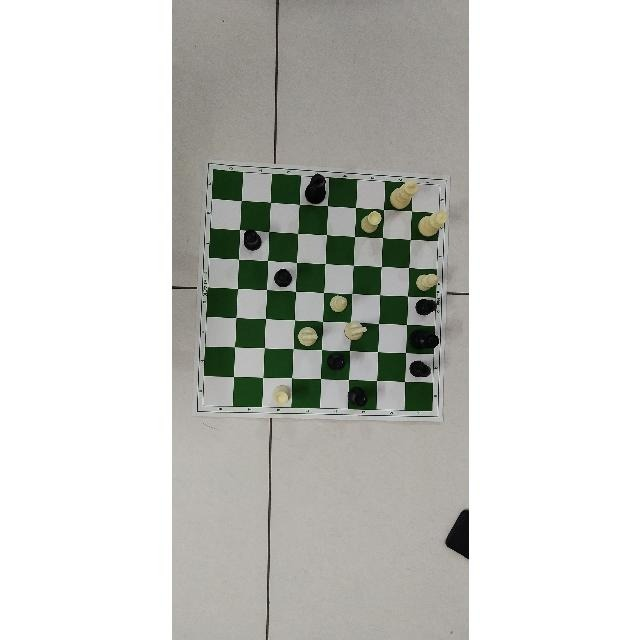black-bishop: (408, 360, 431, 378), (414, 299, 437, 316)
black-king: (304, 174, 326, 206)
black-queen: (406, 328, 437, 351)
black-rook: (346, 385, 368, 406), (242, 228, 262, 251), (272, 268, 291, 288), (327, 351, 347, 370)
white-bishop: (414, 273, 437, 291), (328, 295, 347, 313)
white-king: (389, 180, 417, 210)
white-knight: (342, 320, 367, 340), (296, 327, 317, 345)
white-queen: (416, 208, 447, 235)
white-rook: (358, 210, 381, 232), (272, 384, 290, 405)
